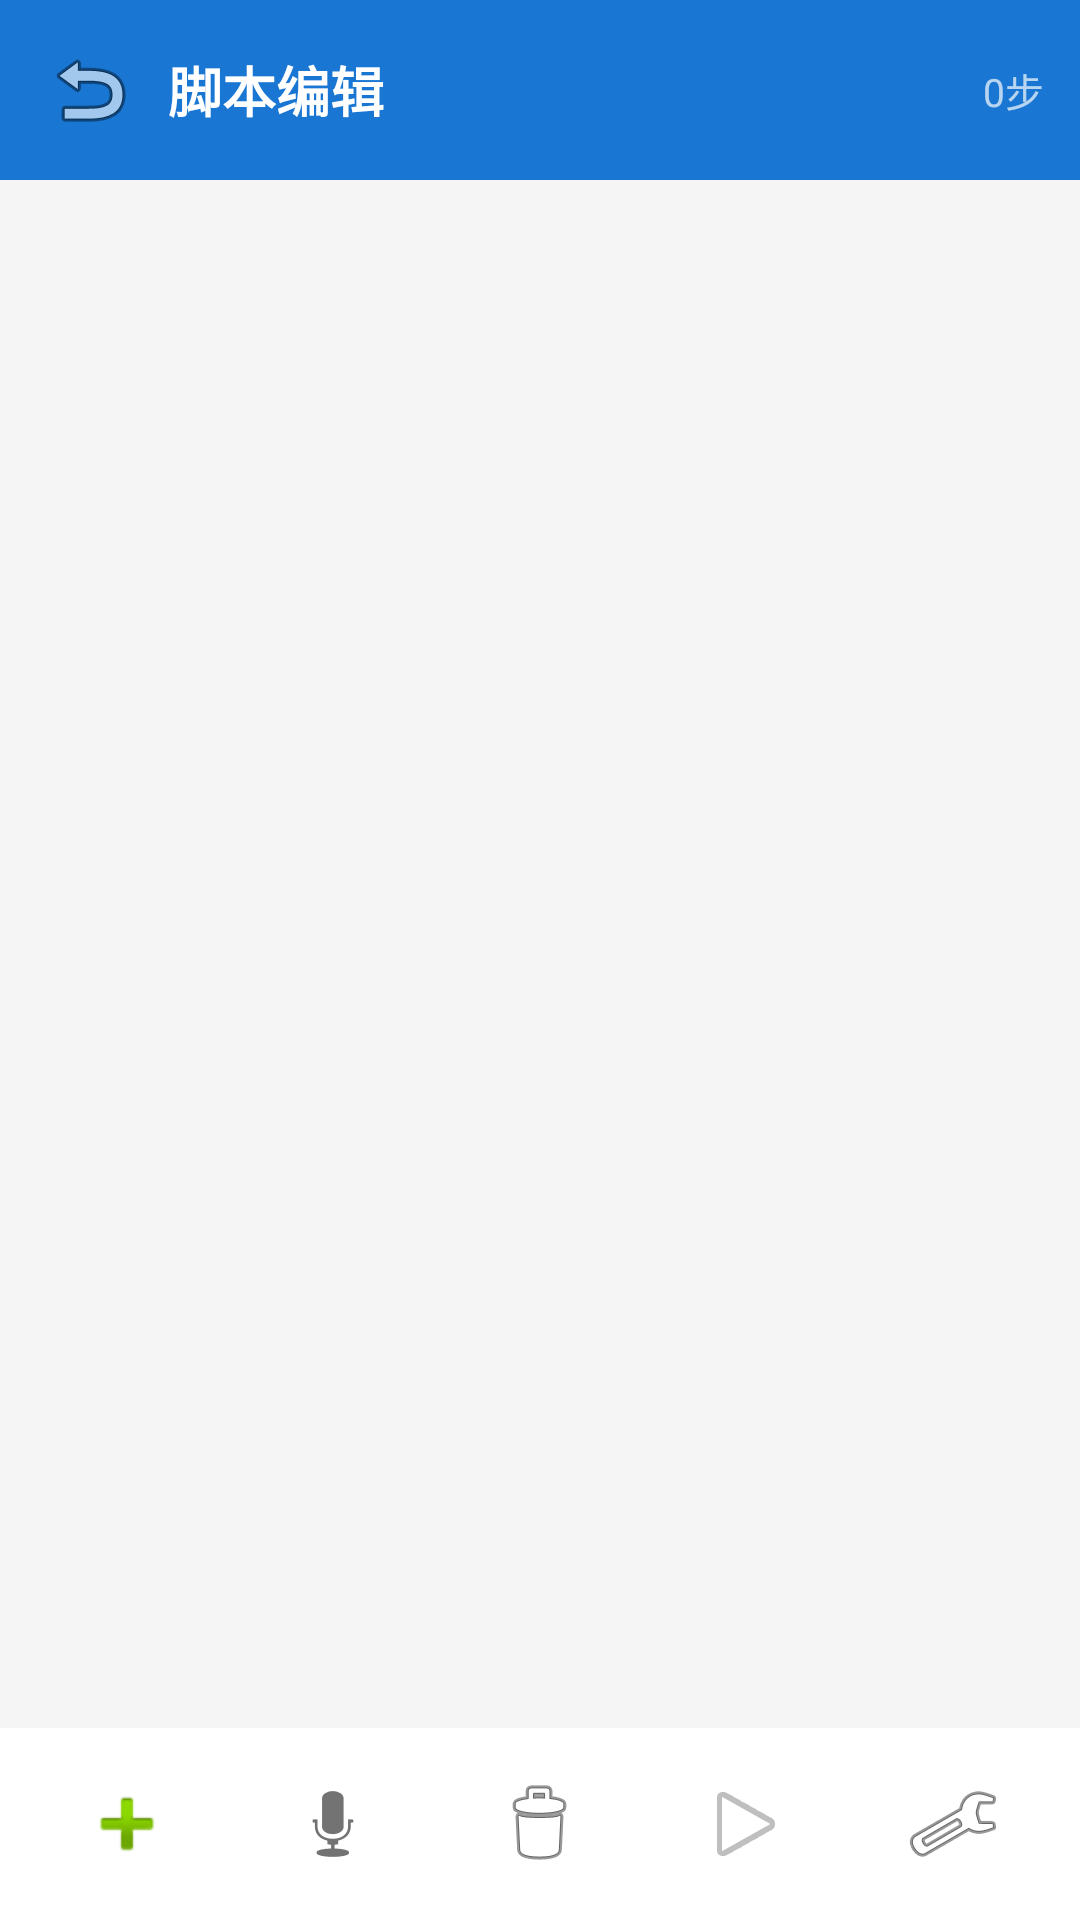

Where icons sit on this 1080px×1920px app screen, as (x1, y1, x2, y2):
删除: (512, 1785, 567, 1860)
录制: (312, 1791, 354, 1857)
执行: (717, 1792, 775, 1856)
添加步骤: (100, 1797, 154, 1851)
设置: (910, 1791, 996, 1857)
返回: (57, 59, 126, 122)
